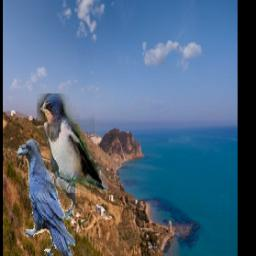Crow: (17, 138, 76, 256)
Swallow: (37, 93, 108, 193)
